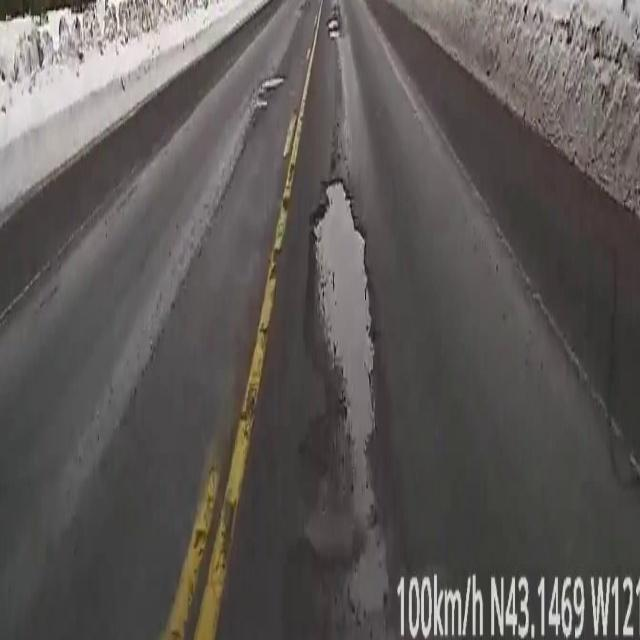pothole: (304, 176, 393, 548), (259, 70, 284, 96), (328, 7, 340, 38)
